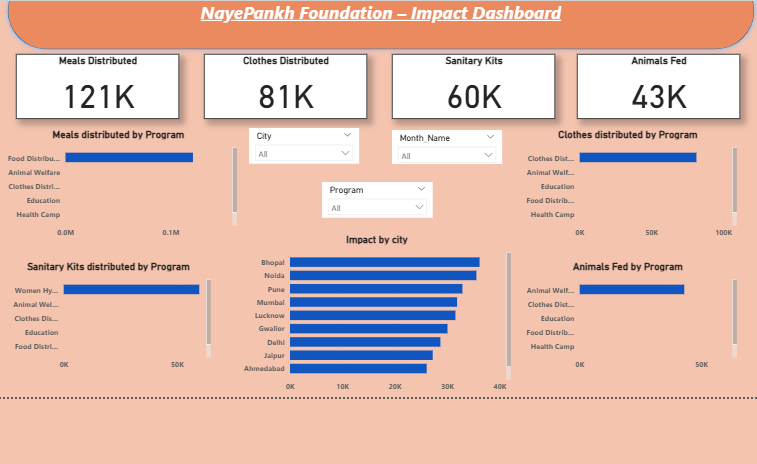

The page's visual inventory and layout, read from the dashboard file:
{"tool":"powerbi","page":{"name":"Duplicate of Duplicate of Duplicate of Duplicate of Page 1","canvas":[1280,720],"ordinal":4},"visuals":[{"type":"shape","title":"EXECUTIVE DASHBOARD","box":[10.1,0,1269.9,144.5],"z":0},{"type":"card","title":"Meals Distributed","fields":{"Values":["Sum(feathers NGO_Analytics.Meals_Distributed)"]},"box":[31.9,144.5,273.8,109.2],"z":1000},{"type":"card","title":"Clothes Distributed ","fields":{"Values":["Sum(feathers NGO_Analytics.Clothes_Distributed)"]},"box":[347.7,144.5,273.8,109.2],"z":2000},{"type":"card","title":"Sanitary Kits","fields":{"Values":["Sum(feathers NGO_Analytics.Sanitary_Kits_Distributed)"]},"box":[663.5,144.5,273.8,109.2],"z":3000},{"type":"card","title":"Animals Fed","fields":{"Values":["Sum(feathers NGO_Analytics.Animals_Fed)"]},"box":[974.3,144.5,273.8,109.2],"z":4000},{"type":"slicer","fields":{"Values":["feathers NGO_Analytics.City"]},"box":[423.3,268.8,184.8,60.5],"z":5000},{"type":"slicer","fields":{"Values":["feathers vw_monthly_summary.Month_Name"]},"box":[663.5,272.1,184.8,57.1],"z":6000},{"type":"slicer","fields":{"Values":["feathers NGO_Analytics.Program"]},"box":[545.9,359.5,186.5,60.5],"z":7000},{"type":"barChart","title":"Meals distributed by Program","fields":{"Category":["feathers NGO_Analytics.Program"],"Y":["Sum(feathers NGO_Analytics.Meals_Distributed)"]},"box":[0,268.8,408.2,193.2],"z":8000},{"type":"barChart","title":"Clothes distributed by Program","fields":{"Category":["feathers NGO_Analytics.Program"],"Y":["Sum(feathers NGO_Analytics.Clothes_Distributed)"]},"box":[871.8,268.8,376.3,193.2],"z":9000},{"type":"barChart","title":"Sanitary Kits distributed by Program","fields":{"Category":["feathers NGO_Analytics.Program"],"Y":["Sum(feathers NGO_Analytics.Sanitary_Kits_Distributed)"]},"box":[10.1,490.5,354.4,193.2],"z":10000},{"type":"barChart","title":"Animals Fed by Program","fields":{"Y":["Sum(feathers NGO_Analytics.Animals_Fed)"],"Category":["feathers NGO_Analytics.Program"]},"box":[871.8,490.5,376.3,193.2],"z":11000},{"type":"barChart","title":"Impact by city","fields":{"Category":["feathers NGO_Analytics.City"],"Y":["feathers NGO_Analytics.Total Impact"]},"box":[408.2,445.1,460.3,275.5],"z":12000}]}

Visuals, with their boxes on the page's 1280x720 design canvas (x1, y1, x2, y2). These are canvas units, not pixel positions in the 757x464 screenshot, which may show the page scaled, cropped or inside an application window:
"EXECUTIVE DASHBOARD" shape: (x1=10, y1=0, x2=1280, y2=144)
"Meals Distributed" card: (x1=32, y1=144, x2=306, y2=254)
"Clothes Distributed " card: (x1=348, y1=144, x2=622, y2=254)
"Sanitary Kits" card: (x1=664, y1=144, x2=937, y2=254)
"Animals Fed" card: (x1=974, y1=144, x2=1248, y2=254)
slicer - feathers NGO_Analytics.City: (x1=423, y1=269, x2=608, y2=329)
slicer - feathers vw_monthly_summary.Month_Name: (x1=664, y1=272, x2=848, y2=329)
slicer - feathers NGO_Analytics.Program: (x1=546, y1=360, x2=732, y2=420)
"Meals distributed by Program" barChart: (x1=0, y1=269, x2=408, y2=462)
"Clothes distributed by Program" barChart: (x1=872, y1=269, x2=1248, y2=462)
"Sanitary Kits distributed by Program" barChart: (x1=10, y1=490, x2=364, y2=684)
"Animals Fed by Program" barChart: (x1=872, y1=490, x2=1248, y2=684)
"Impact by city" barChart: (x1=408, y1=445, x2=868, y2=721)
